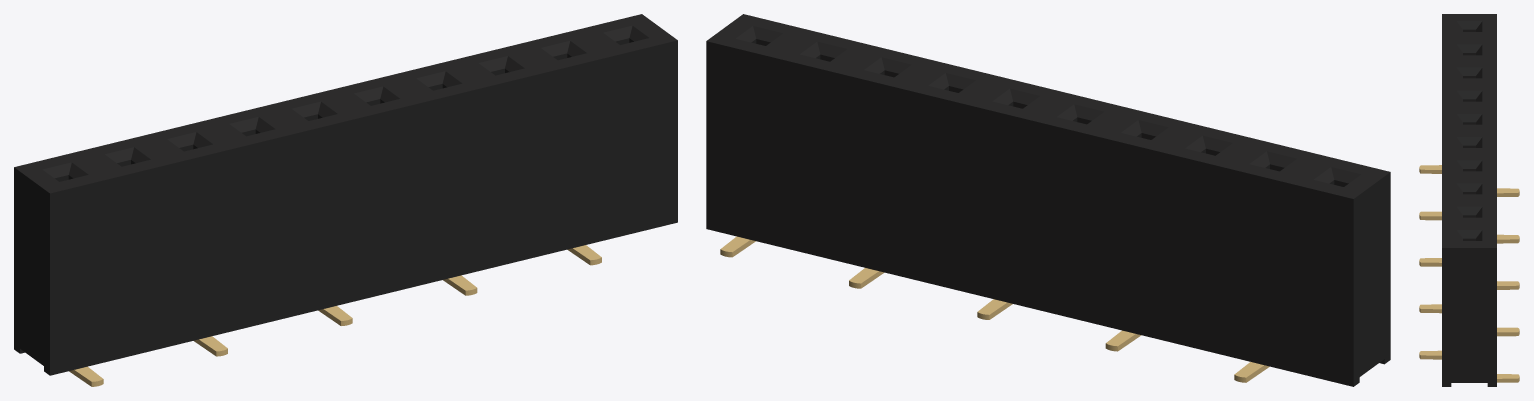
3 renders of one model, left to right at view 1: azimuth 30°, elevation 25°; view 2: azimuth 150°, elevation 25°; view 3: azimuth 270°, elevation 25°, orthographic. The views are drawn at different scales.
Parts seen in each view (by area): view 1: =>[0:1:1:3]; view 2: =>[0:1:1:3]; view 3: =>[0:1:1:3].
Boxes of the visible parts, <box> form: =>[0:1:1:3]: <box>14,14,677,386</box>; =>[0:1:1:3]: <box>706,14,1390,386</box>; =>[0:1:1:3]: <box>1419,14,1519,386</box>.
Size of the model in its own units: 0.0256 by 0.0074 by 0.00464.
